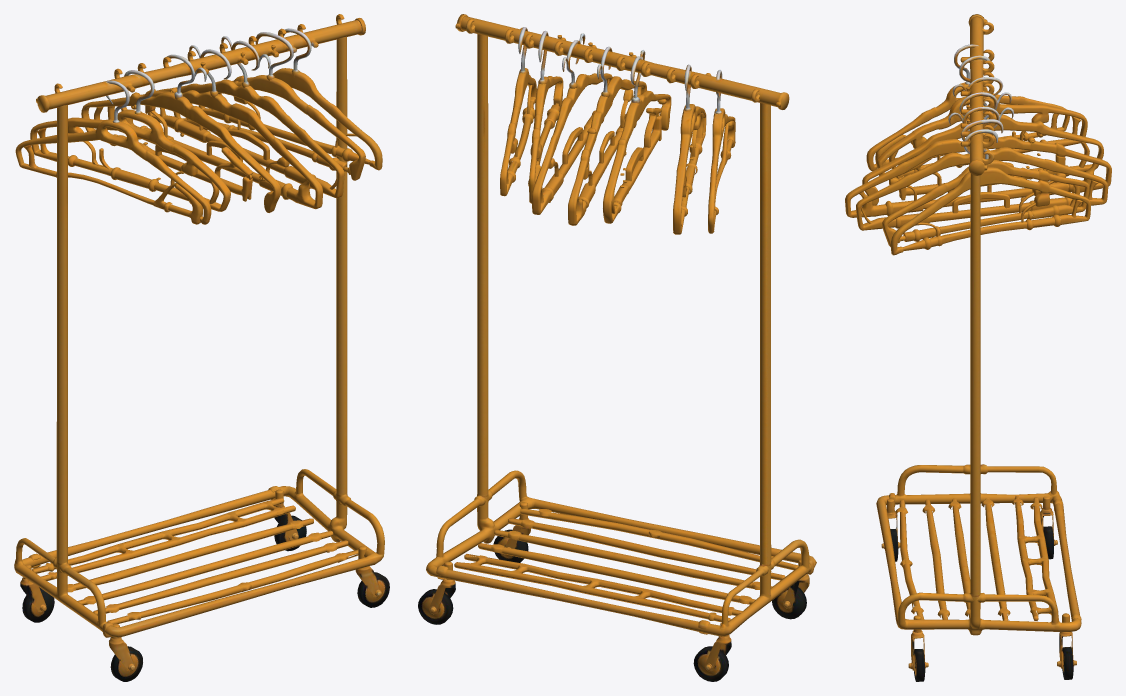
File: toonstudio_garment_rack.glb
3 views of the same model, side by side, from view 1: azimuth 30°, elevation 25°; view 2: azimuth 150°, elevation 25°; view 3: azimuth 270°, elevation 25° (orthographic). The views are drawn at different scales.
Parts seen in each view (by area): view 1: dc2f9e9a_927d_43ee_90c2_c12b616a9e3f; view 2: dc2f9e9a_927d_43ee_90c2_c12b616a9e3f; view 3: dc2f9e9a_927d_43ee_90c2_c12b616a9e3f.
Boxes of the visible parts, bbox=[...] form: dc2f9e9a_927d_43ee_90c2_c12b616a9e3f: bbox=[14, 14, 389, 681]; dc2f9e9a_927d_43ee_90c2_c12b616a9e3f: bbox=[418, 14, 816, 681]; dc2f9e9a_927d_43ee_90c2_c12b616a9e3f: bbox=[845, 14, 1111, 681].
Size of the model in its own units: 0.9512 by 1.6 by 0.7293.
1 material, 1 textured.
